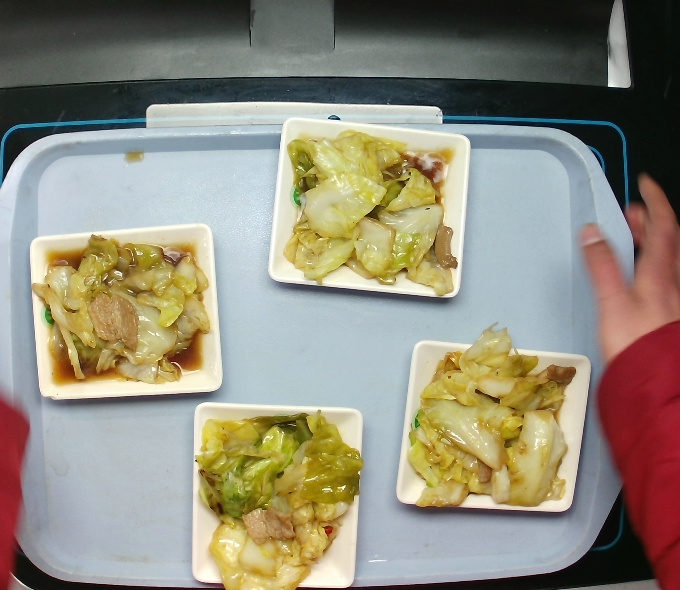wcq-JuanXinCaiChaoRou: (391, 325, 578, 515), (184, 409, 366, 590), (283, 120, 464, 297), (37, 224, 210, 395)
